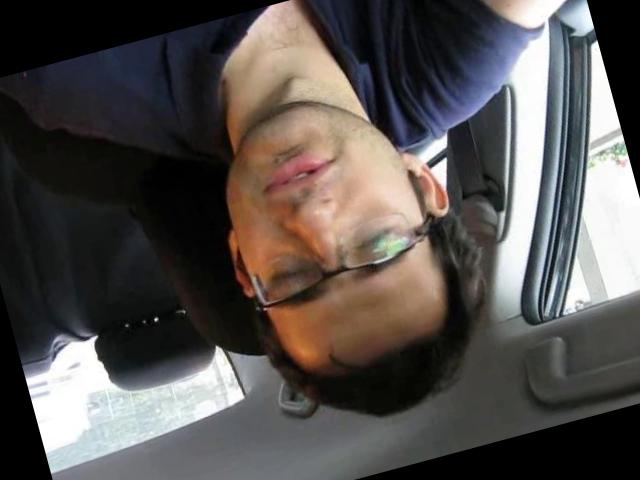eye_closed: (343, 218, 404, 263), (260, 253, 324, 294)
face: (213, 77, 450, 334)
